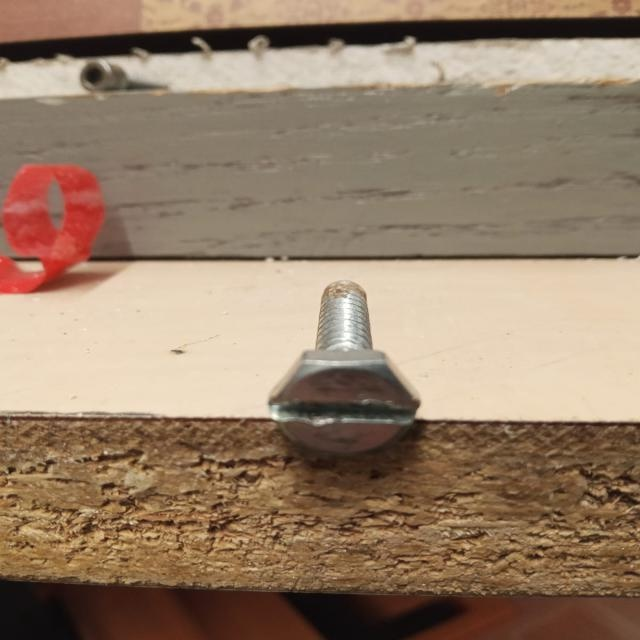duz: (265, 350, 424, 458)
